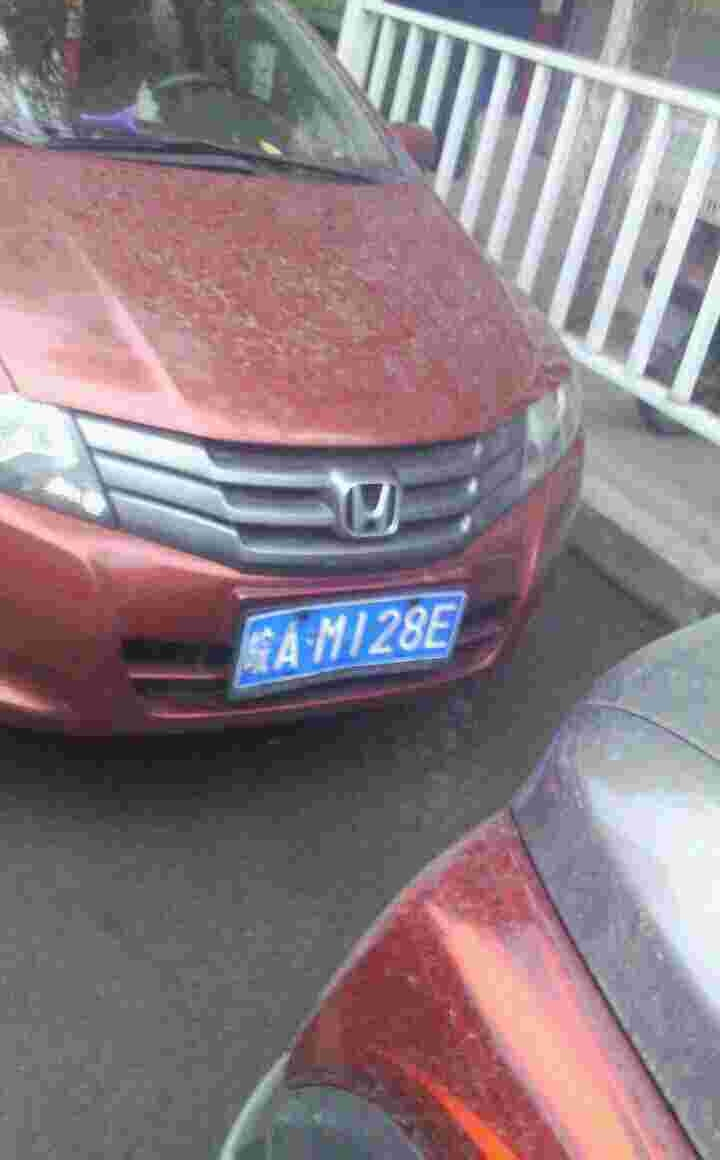license_plate: (238, 588, 475, 689)
